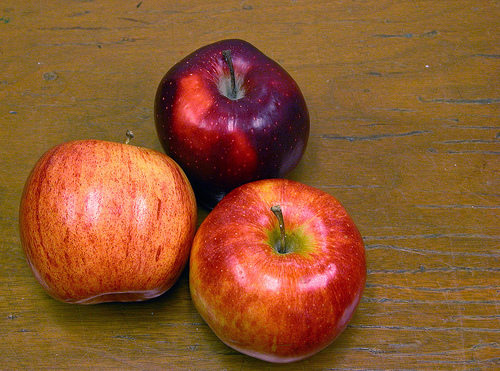apple: (15, 124, 201, 312), (189, 181, 367, 362), (152, 36, 313, 191)
